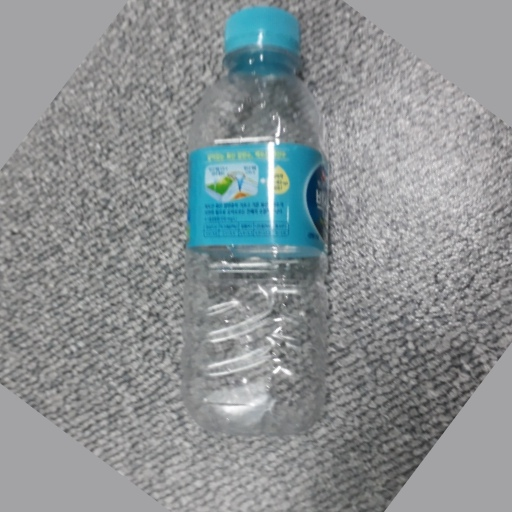Plastic_0: (182, 7, 333, 439)
